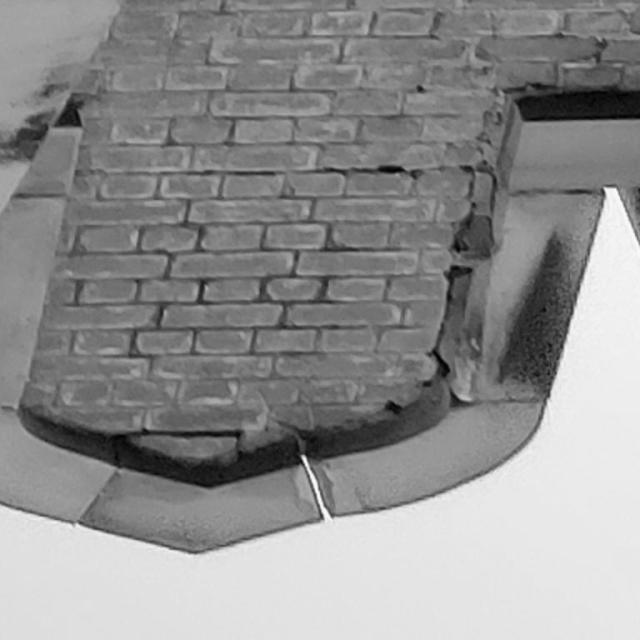crack: (317, 147, 498, 416), (114, 428, 244, 460)
